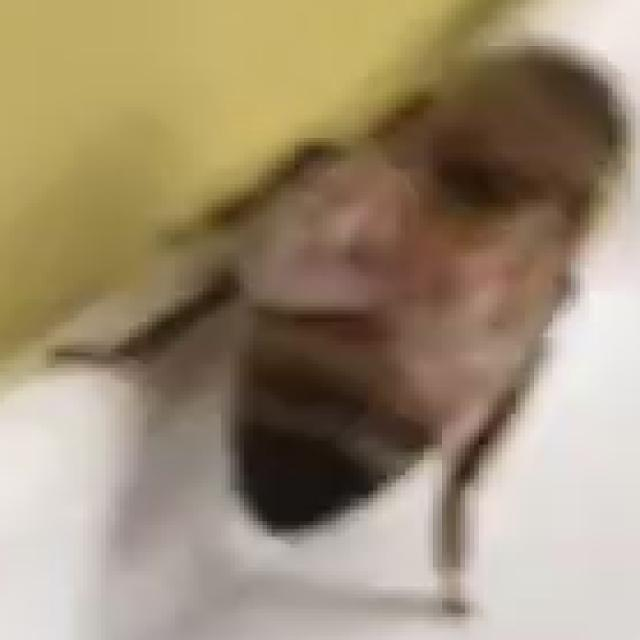honeybee: (124, 19, 574, 554)
